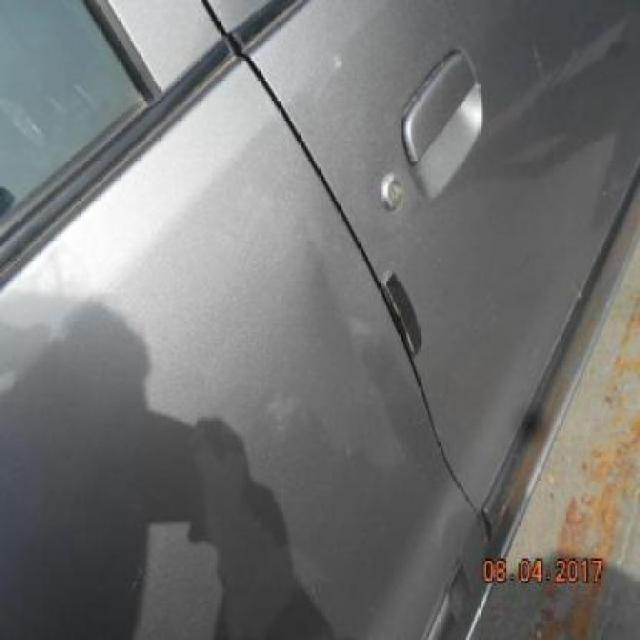damage: (301, 231, 411, 471)
